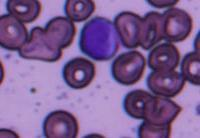L: (79, 15, 121, 60)
